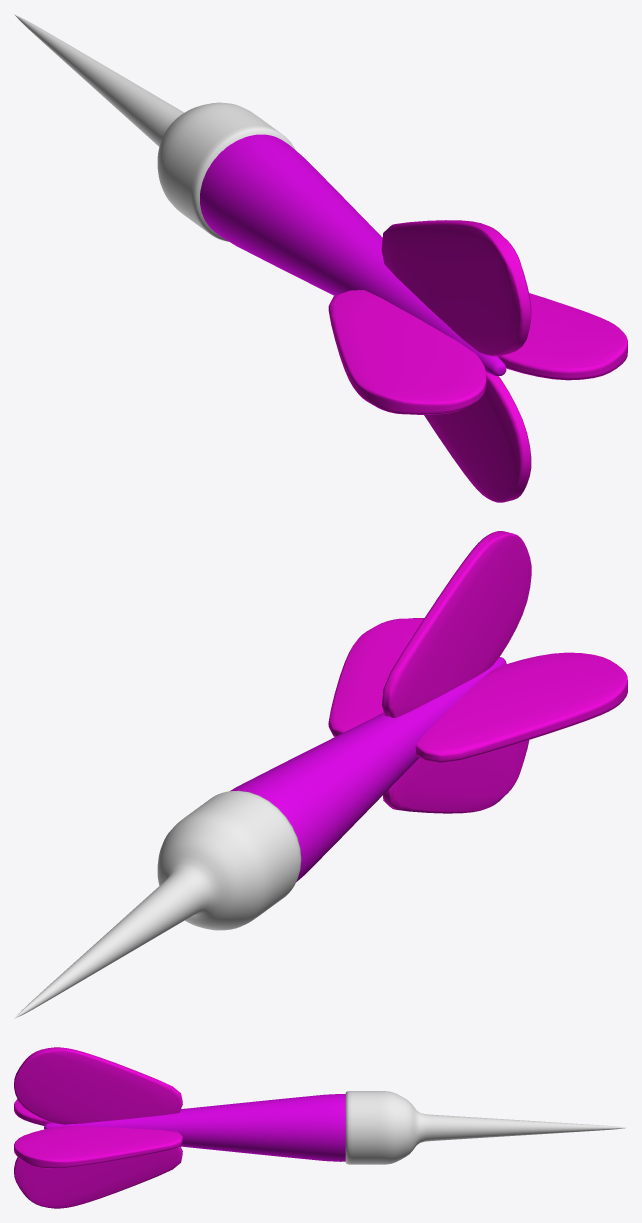
The model's file is dartfinal.fbx.
3 views of the same model, one above another, from view 1: azimuth 30°, elevation 25°; view 2: azimuth 150°, elevation 25°; view 3: azimuth 270°, elevation 25° (orthographic). The views are drawn at different scales.
Visible parts, largest first — view 1: Sphere, Cube, Cube.002, Cylinder, Cube.001, Cube.003; view 2: Cylinder, Sphere, Cube, Cube.002, Cube.001, Cube.003; view 3: Sphere, Cube, Cylinder, Cube.001, Cube.003, Cube.002.
Boxes of the visible parts, <box> form: Sphere: <box>200,134,506,375</box>; Cube: <box>381,220,531,356</box>; Cube.002: <box>328,290,486,414</box>; Cylinder: <box>14,14,295,241</box>; Cube.001: <box>424,372,531,502</box>; Cube.003: <box>498,293,627,380</box>; Cylinder: <box>14,790,301,1018</box>; Sphere: <box>230,657,506,881</box>; Cube: <box>382,531,531,717</box>; Cube.002: <box>415,652,627,762</box>; Cube.001: <box>383,740,529,813</box>; Cube.003: <box>328,618,424,736</box>; Sphere: <box>44,1094,345,1161</box>; Cube: <box>14,1047,182,1124</box>; Cylinder: <box>345,1091,627,1164</box>; Cube.001: <box>14,1146,182,1208</box>; Cube.003: <box>14,1126,182,1168</box>; Cube.002: <box>14,1099,52,1125</box>.
Bounding box in the file's own units: 160 × 160 × 562.
